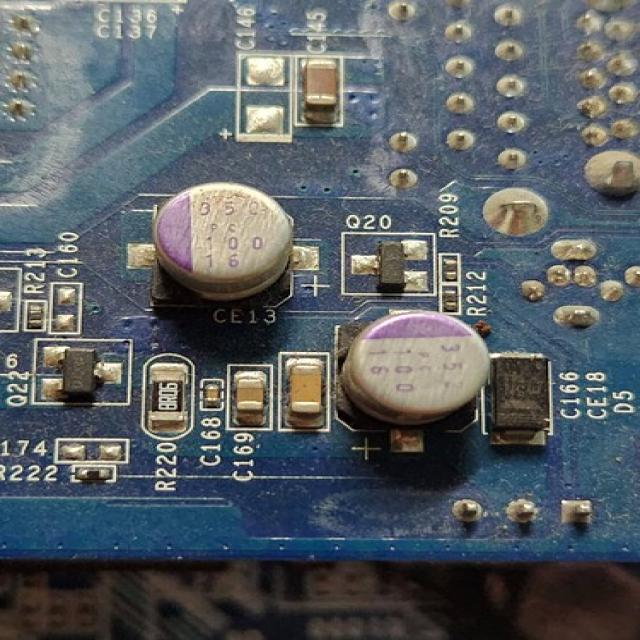4439: (44, 342, 118, 407), (351, 238, 433, 295)
capacitor 1V5: (332, 303, 488, 435), (140, 179, 300, 295), (282, 354, 328, 421), (296, 59, 332, 122), (229, 372, 268, 420), (201, 379, 222, 415)
diode -D1-: (491, 345, 559, 447)
resistor IR1: (151, 367, 180, 424), (74, 467, 115, 482)
